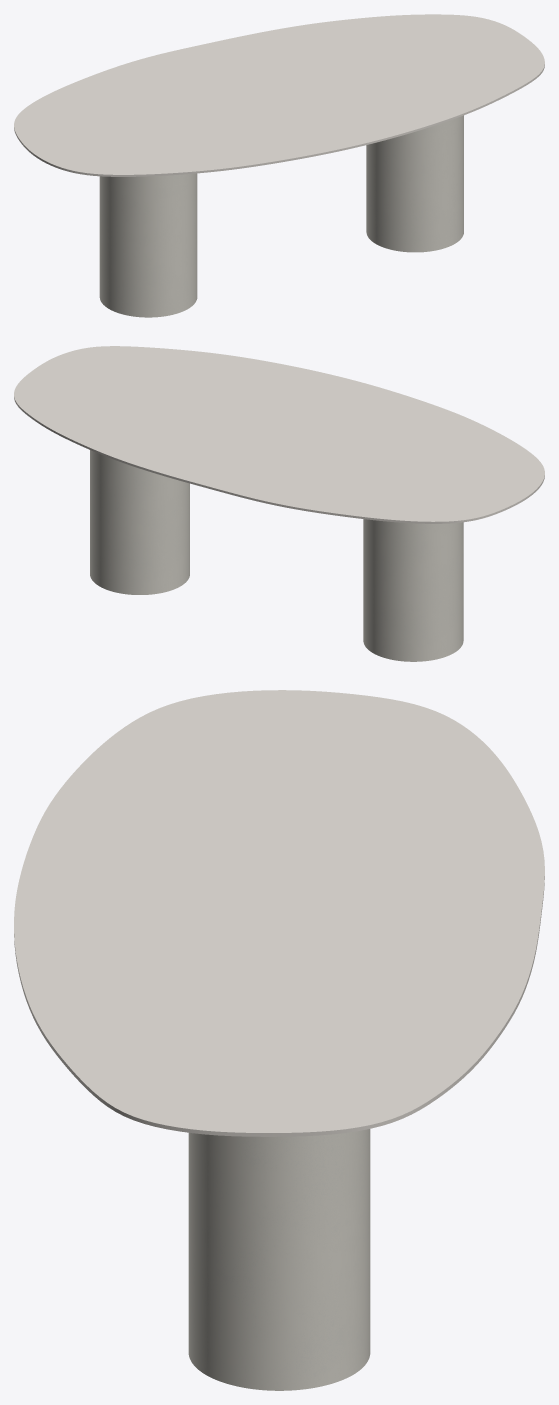
The model's file is pale_danish_facet_stream.glb.
3 views of the same model, one above another, from view 1: azimuth 30°, elevation 25°; view 2: azimuth 150°, elevation 25°; view 3: azimuth 270°, elevation 25° (orthographic). The views are drawn at different scales.
Visible parts, largest first — view 1: facet_danish, stream; view 2: facet_danish, stream; view 3: facet_danish, stream.
Boxes of the visible parts, x1,y1,x2,y2 form: facet_danish: [14, 14, 544, 176]; stream: [99, 115, 463, 317]; facet_danish: [14, 346, 544, 523]; stream: [90, 450, 463, 661]; facet_danish: [14, 690, 544, 1136]; stream: [188, 1129, 370, 1390].
Bounding box in the file's own units: 7.5 × 2.5 × 3.8.
2 materials, 2 textured.
